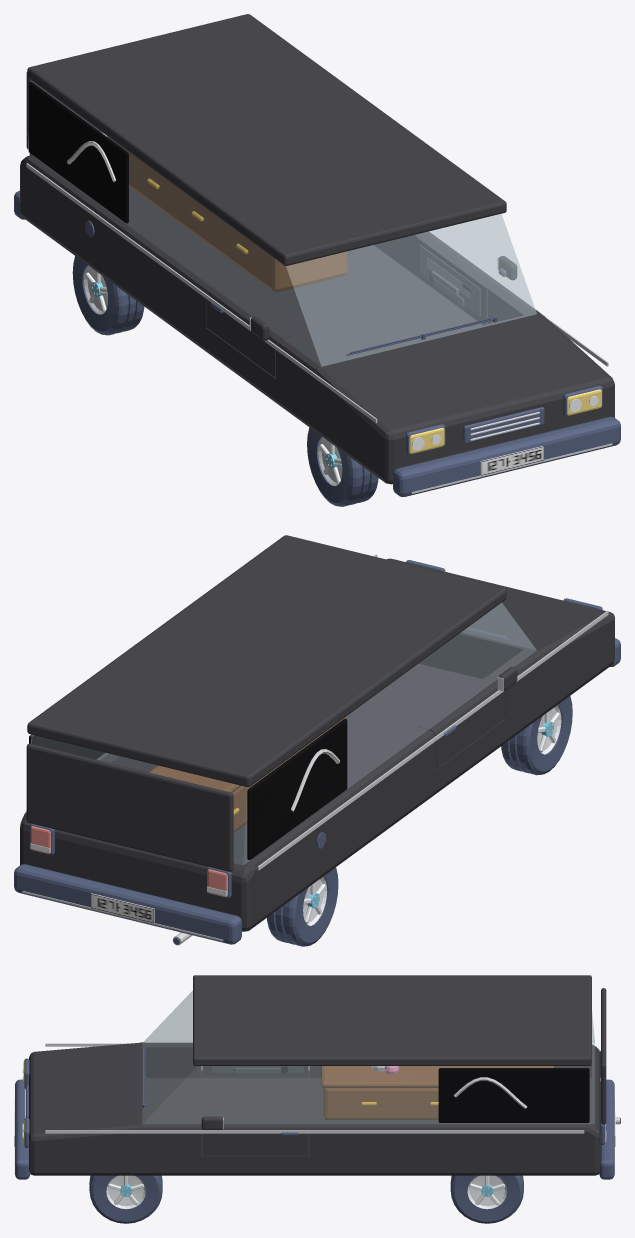
File: V06_hearse_v3.glb
3 renders of one model, top to bottom at view 1: azimuth 30°, elevation 25°; view 2: azimuth 150°, elevation 25°; view 3: azimuth 270°, elevation 25°, orthographic. The views are drawn at different scales.
Visible parts, largest first — view 1: Body, Glass, Static, Door_R, Wheel_RR, Wheel_FR, Door_L, DoorDetail_L; view 2: Body, Static, Trunk, Glass, Door_R, Wheel_FR, Wheel_RR; view 3: Body, Static, Glass, Door_L, Wheel_RL, Wheel_FL, Trunk, DoorDetail_R, Door_R.
Boxes of the visible parts, left/top/right/bottom form: Body: left=20, top=14, right=614, bottom=484; Glass: left=28, top=81, right=536, bottom=366; Static: left=14, top=82, right=620, bottom=496; Door_R: left=206, top=285, right=293, bottom=377; Wheel_RR: left=72, top=256, right=144, bottom=335; Wheel_FR: left=307, top=427, right=378, bottom=506; Door_L: left=417, top=235, right=502, bottom=324; DoorDetail_L: left=420, top=245, right=480, bottom=316; Body: left=20, top=535, right=614, bottom=931; Static: left=14, top=554, right=620, bottom=945; Trunk: left=26, top=743, right=233, bottom=871; Glass: left=31, top=603, right=536, bottom=864; Door_R: left=418, top=676, right=505, bottom=768; Wheel_FR: left=501, top=696, right=572, bottom=775; Wheel_RR: left=267, top=867, right=338, bottom=946; Body: left=29, top=975, right=600, bottom=1175; Static: left=14, top=1043, right=620, bottom=1179; Glass: left=142, top=990, right=594, bottom=1123; Door_L: left=202, top=1120, right=308, bottom=1156; Wheel_RL: left=450, top=1175, right=523, bottom=1223; Wheel_FL: left=89, top=1175, right=162, bottom=1223; Trunk: left=601, top=988, right=606, bottom=1124; DoorDetail_R: left=211, top=1066, right=303, bottom=1073; Door_R: left=202, top=1066, right=308, bottom=1076.
Size of what is drawn, in the model's own units: 2.11 by 1.71 by 5.63.
3 materials, 1 textured.
